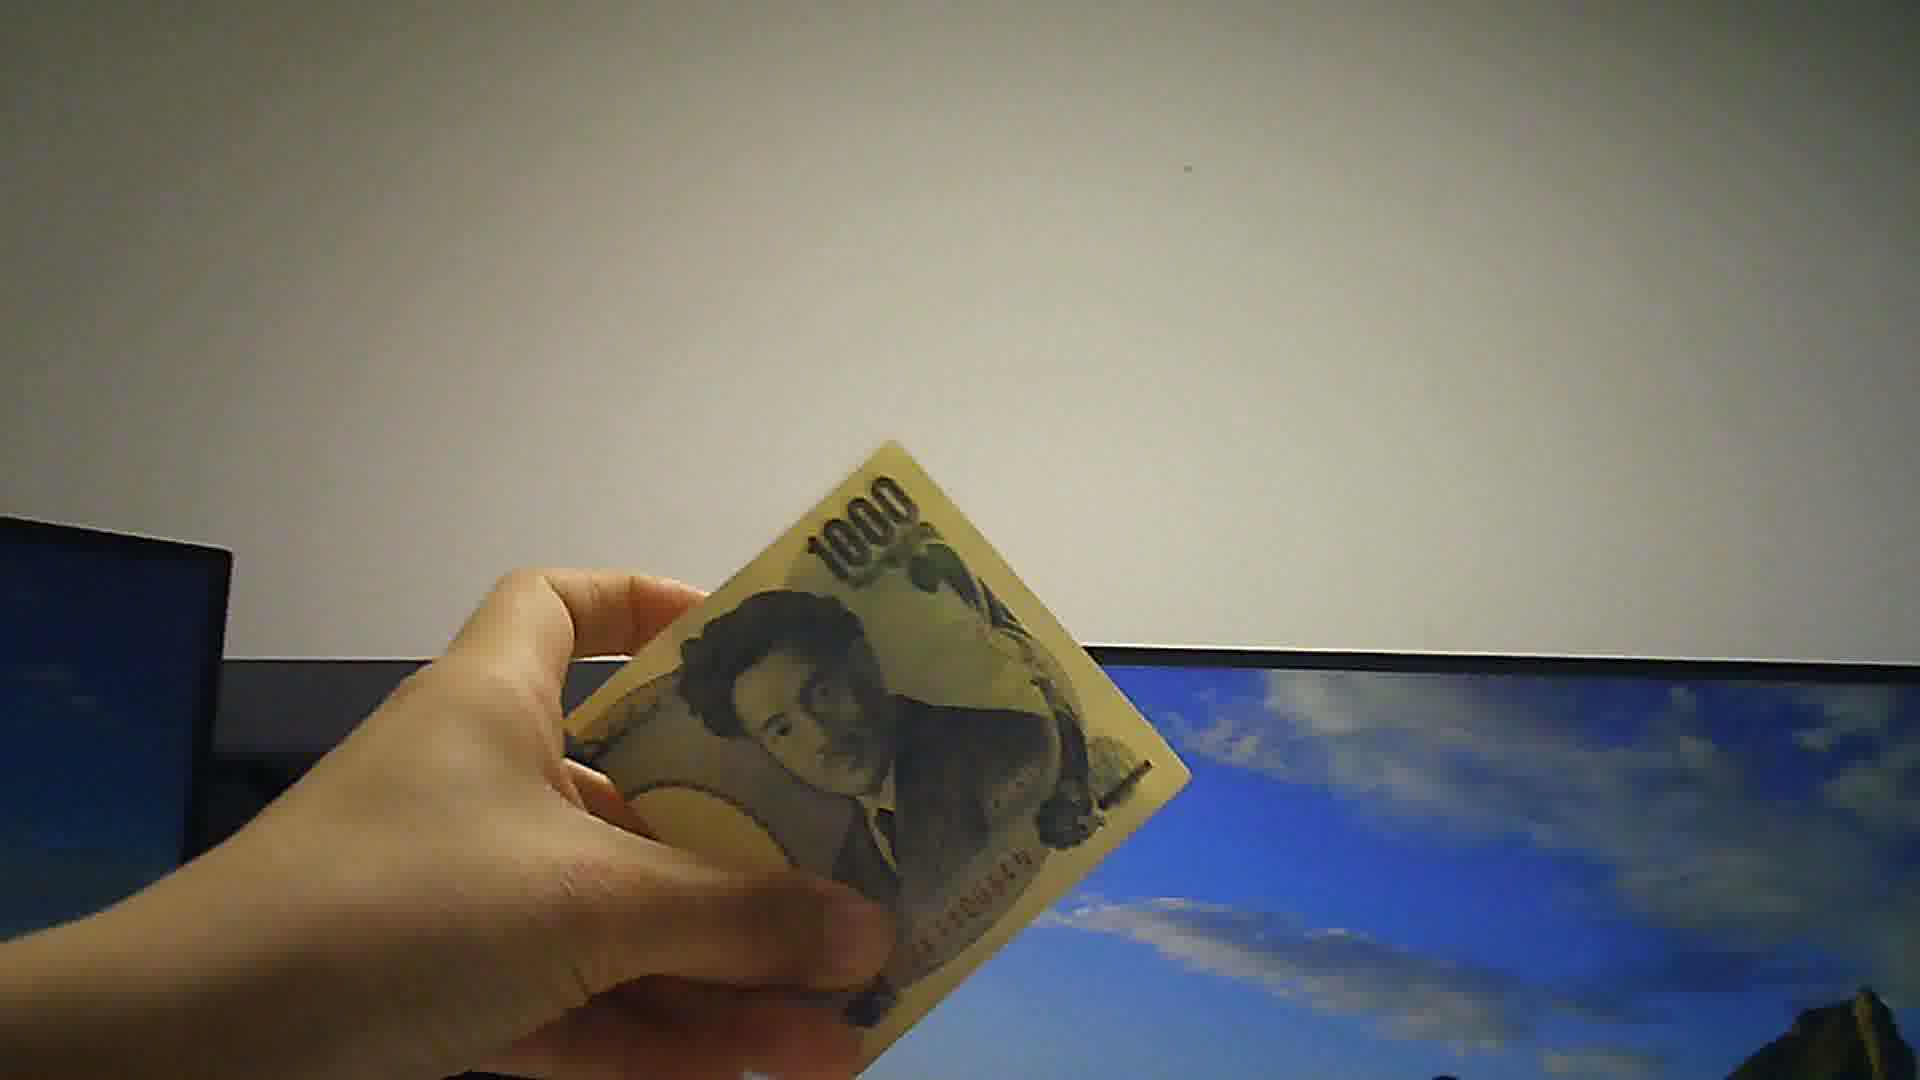1,000 Yen: (545, 427, 1188, 1076)
